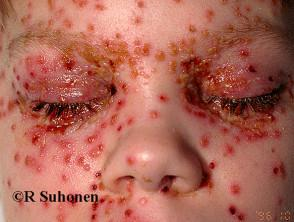Eczema: (17, 1, 105, 32), (12, 56, 60, 75), (92, 201, 135, 222), (268, 158, 287, 186), (192, 109, 217, 130), (99, 42, 118, 69), (227, 176, 248, 196), (166, 40, 187, 58), (146, 104, 165, 123), (201, 154, 219, 174), (130, 41, 149, 59), (226, 202, 243, 222), (232, 6, 254, 21), (12, 190, 34, 205), (226, 142, 245, 159), (239, 125, 267, 136), (27, 158, 48, 172), (202, 7, 224, 19), (185, 20, 201, 36), (160, 94, 175, 111), (88, 132, 102, 150), (94, 166, 104, 190), (126, 18, 146, 30), (237, 46, 252, 61), (131, 65, 147, 79), (62, 57, 79, 70), (75, 157, 90, 171), (120, 72, 131, 91), (110, 112, 123, 128), (61, 137, 74, 152), (199, 138, 213, 151), (57, 204, 70, 217), (59, 173, 70, 187), (131, 0, 146, 10), (172, 60, 179, 77)
